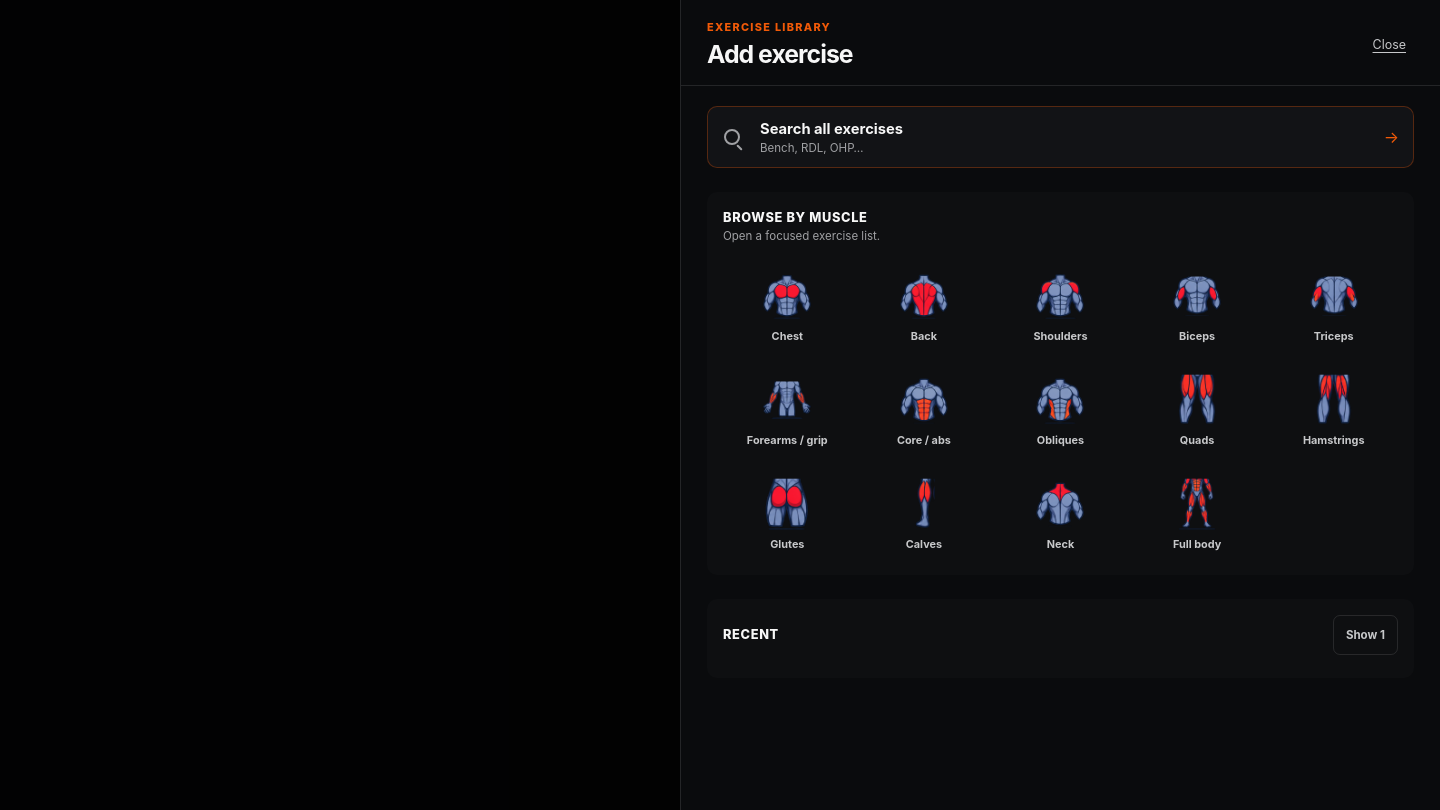
Test: ExercisePicker › opens a dedicated muscle-group screen and filters that group by workout type
Click the button with aria-label "Open Chest exercises" at (787, 305), box [723,259,852,351]
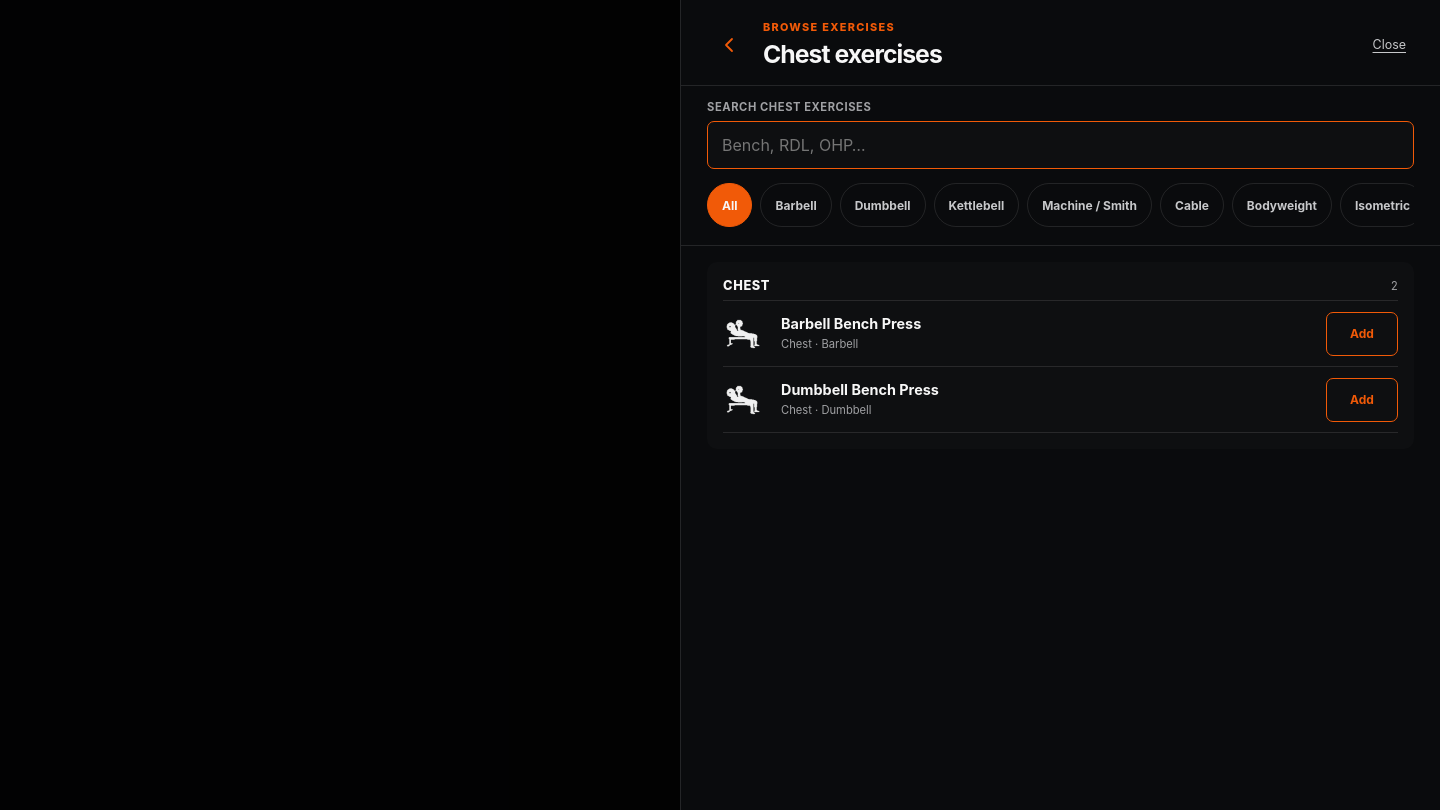
Result: the heading "Chest exercises" is shown at [763,39,942,69]
Result: the button named "Back to exercise library" is shown at [707,22,751,66]
Click the button "Dumbbell" at (883, 205), box [840,183,926,227]
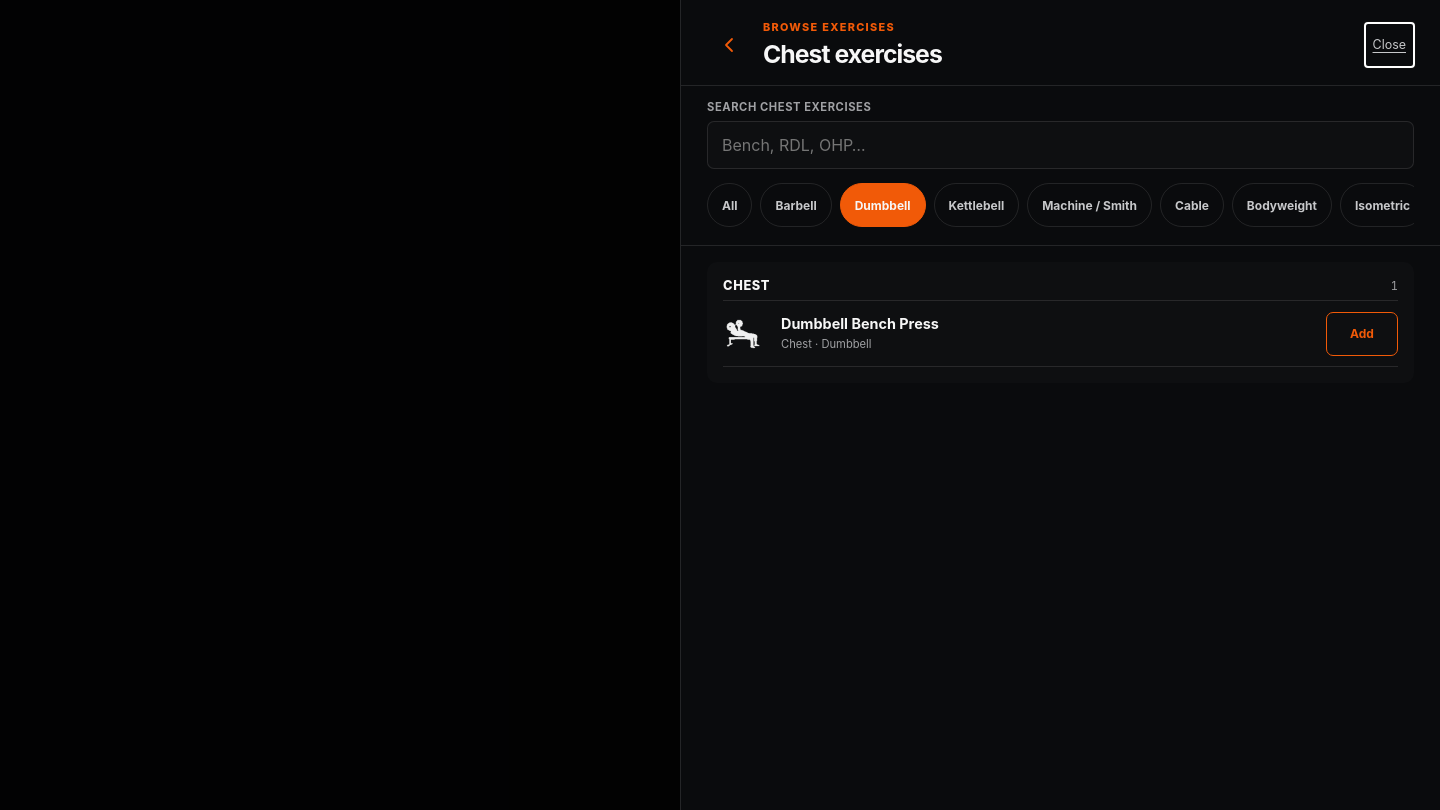
Result: the text "Dumbbell Bench Press" is shown at [781,315,939,332]
Result: the text "Barbell Bench Press" is gone
